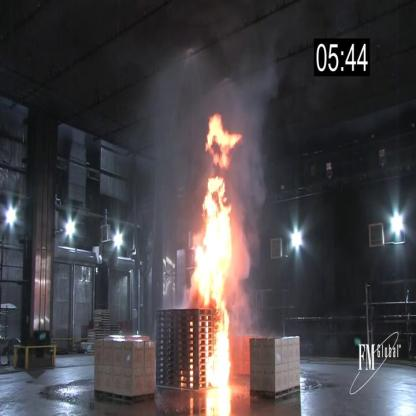fire: (188, 172, 235, 388), (193, 105, 244, 168)
